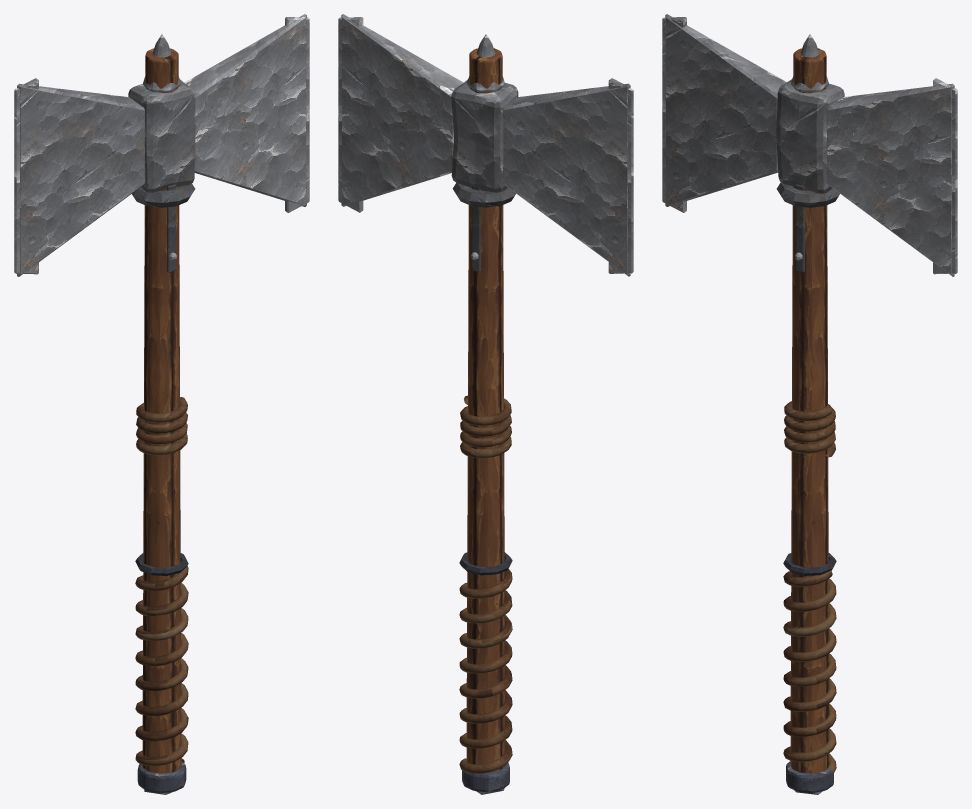
File: axe_2h_silver.glb
The picture shows the model from 3 angles, left to right: view 1: azimuth 30°, elevation 25°; view 2: azimuth 150°, elevation 25°; view 3: azimuth 330°, elevation 25°; orthographic projection.
Visible parts, largest first — view 1: model; view 2: model; view 3: model.
Boxes of the visible parts, bbox=[...] form: model: bbox=[14, 14, 309, 794]; model: bbox=[338, 14, 633, 794]; model: bbox=[662, 14, 957, 794].
Bounding box in the file's own units: 0.57 × 1.4 × 0.112.
9 materials, 8 textured.
